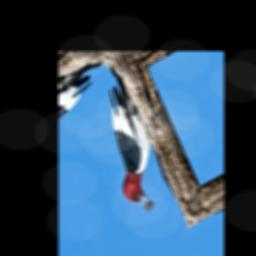Woodpecker: (82, 79, 181, 216)
